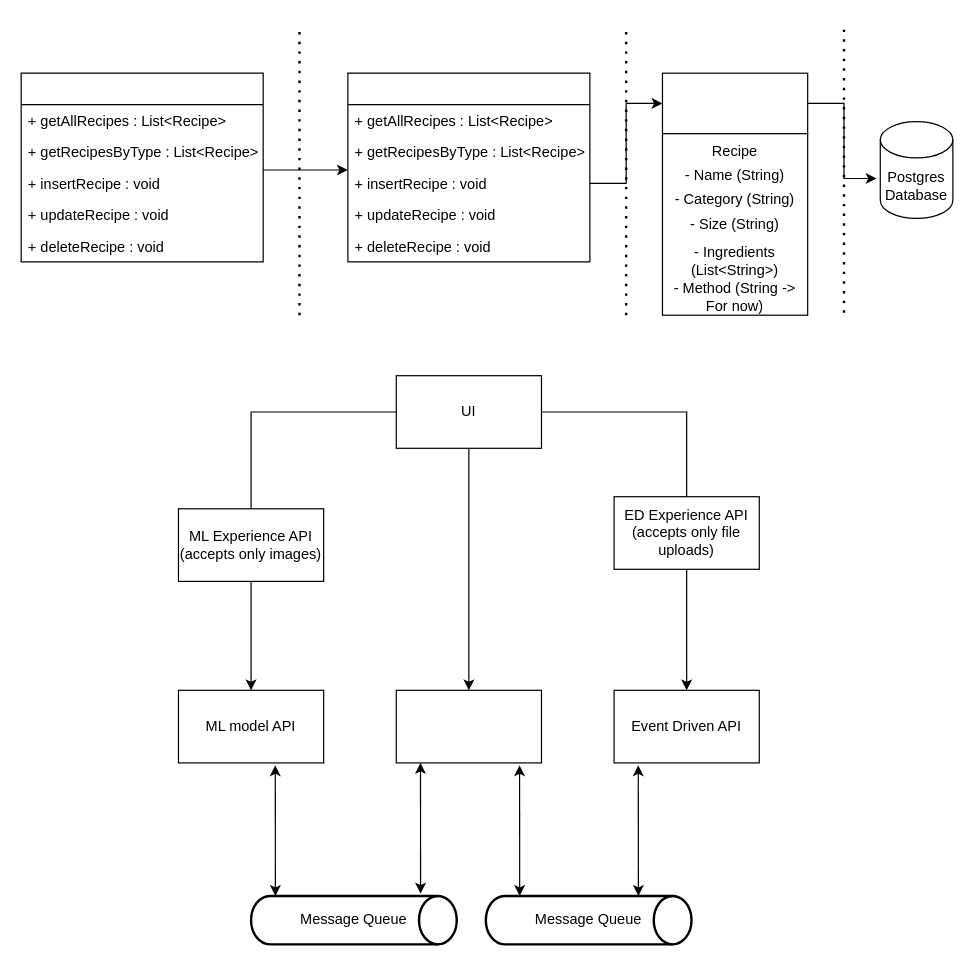
Image size: 974x966. Some labels were removed from this diagram. The shapes that lost their labels are listed below. From the top down, each one's box as (x1, y1, x2, y2) in pixels, then its label:
(661, 72, 808, 134): «interface» RecipeStore
(20, 72, 263, 262): RecipeController
(347, 72, 590, 262): RecipeService
(395, 689, 541, 763): Recipe Store API
